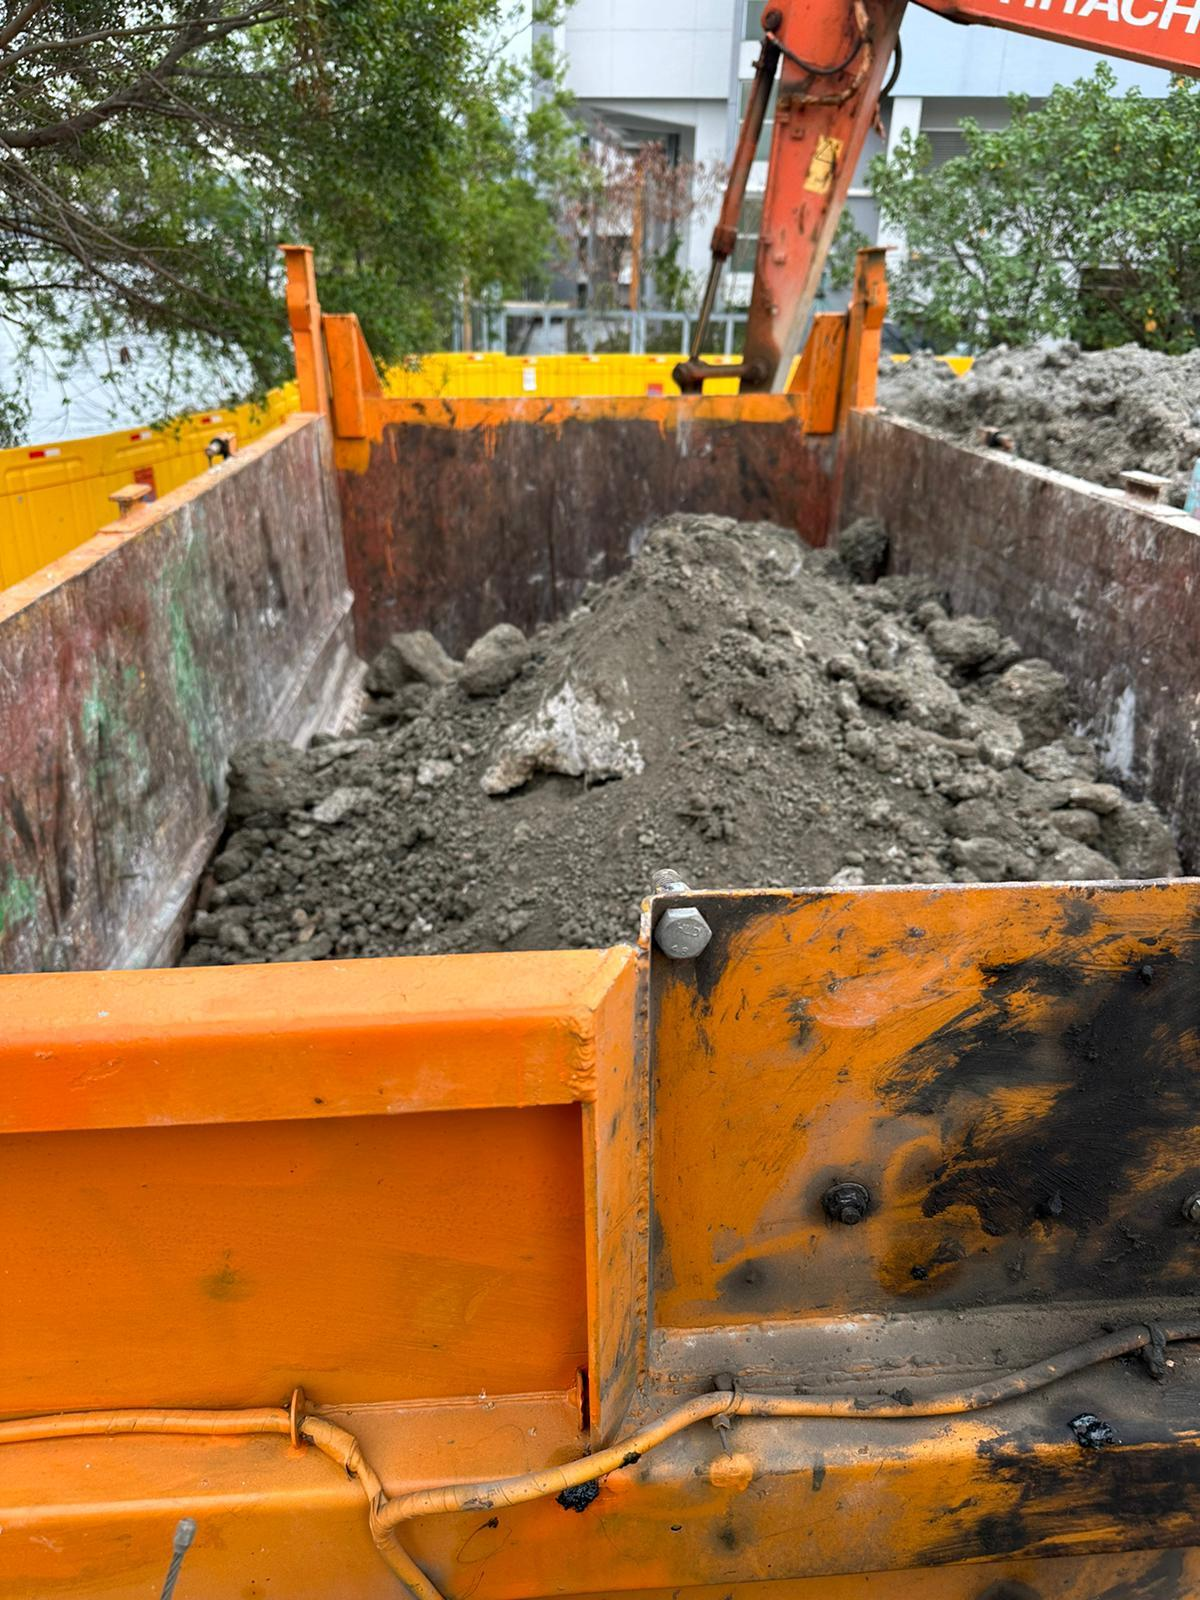wet: (229, 533, 1162, 952)
